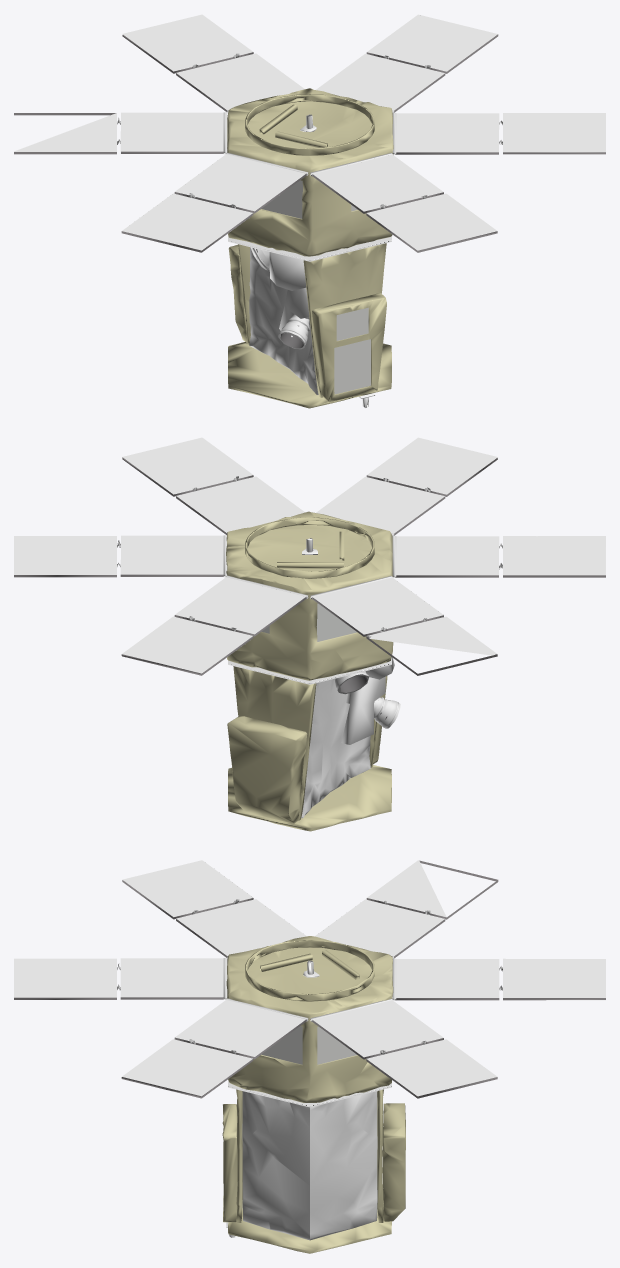
File: solar-radiation-and-climate-experiment-sorce.glb
3 views of the same model, one above another, from view 1: azimuth 30°, elevation 25°; view 2: azimuth 150°, elevation 25°; view 3: azimuth 270°, elevation 25° (orthographic).
Parts seen in each view (by area): view 1: SORCE_vFINAL [Layer11], SORCE_vFINAL [Layer10]; view 2: SORCE_vFINAL [Layer11], SORCE_vFINAL [Layer10]; view 3: SORCE_vFINAL [Layer10], SORCE_vFINAL [Layer11].
Boxes of the visible parts, x1,y1,x2,y2 form: SORCE_vFINAL [Layer11]: (14, 14, 605, 250); SORCE_vFINAL [Layer10]: (14, 34, 605, 408); SORCE_vFINAL [Layer11]: (14, 437, 605, 673); SORCE_vFINAL [Layer10]: (14, 457, 605, 831); SORCE_vFINAL [Layer10]: (14, 860, 605, 1253); SORCE_vFINAL [Layer11]: (14, 860, 605, 1096).
Size of the model in its own units: 230 by 121 by 243.
Materials: 2 (2 with a texture image).
